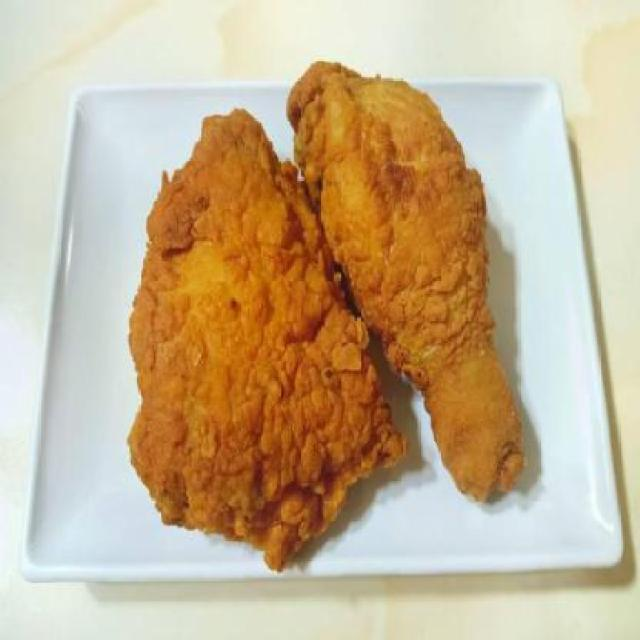Chicken -Fried Chicken-: (130, 74, 396, 561), (284, 57, 528, 506)
